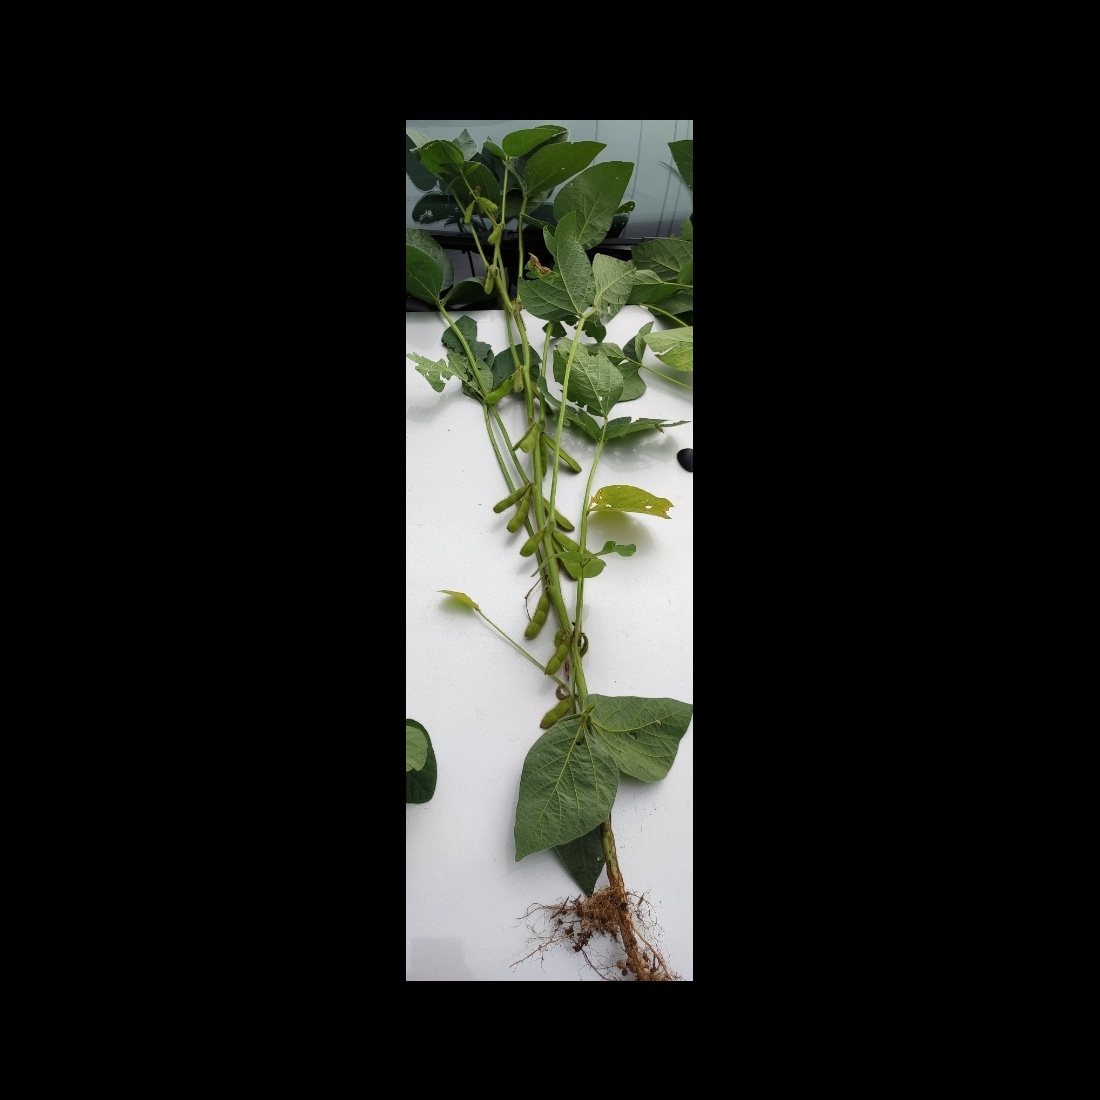pod: (521, 584, 554, 648), (530, 693, 581, 732), (542, 434, 586, 479), (503, 487, 534, 539), (489, 485, 537, 513), (543, 636, 572, 679), (483, 374, 518, 405), (521, 423, 546, 452), (482, 266, 496, 298), (485, 223, 504, 245), (514, 362, 524, 401), (461, 201, 475, 228), (475, 196, 500, 212)
soy: (419, 139, 684, 970)
